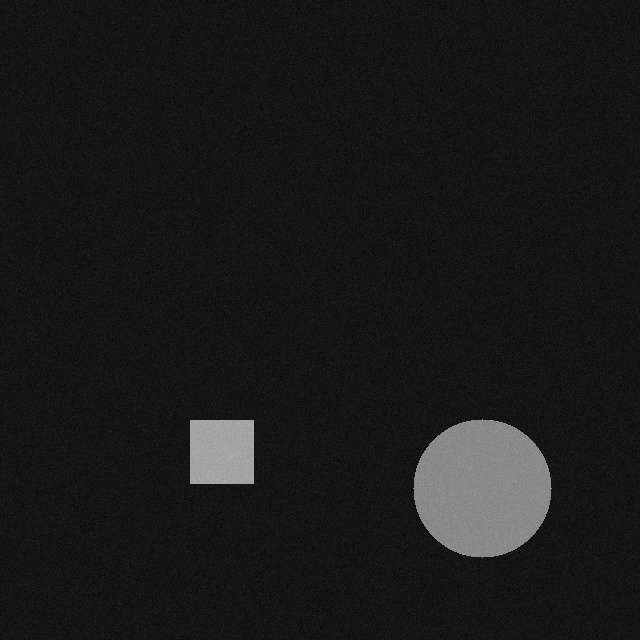circle: (420, 407, 558, 545)
square: (197, 408, 260, 471)
